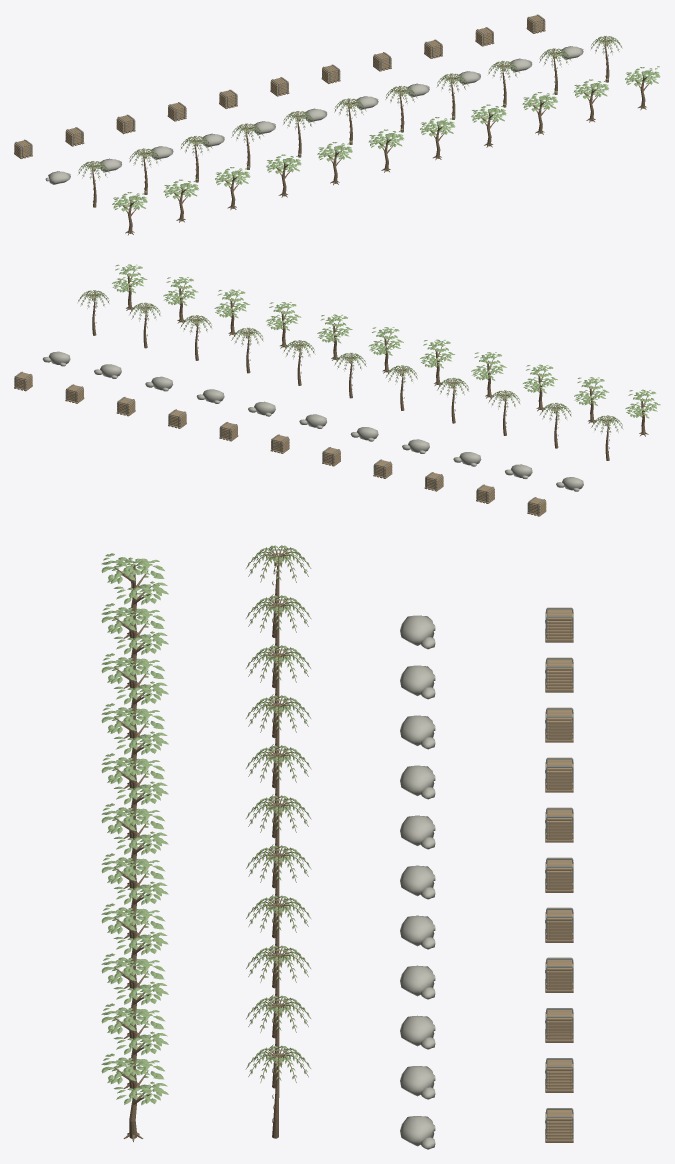
Rendered from scenery.glb.
The picture shows the model from 3 angles, top to bottom: view 1: azimuth 30°, elevation 25°; view 2: azimuth 150°, elevation 25°; view 3: azimuth 270°, elevation 25°; orthographic projection. The views are drawn at different scales.
Parts seen in each view (by area): view 1: overpass__tree, dust2__tree, train__tree, vertigo__tree, inferno__tree, ancient__tree, mirage__tree, cache__tree, ancient_night__tree, nuke__tree, anubis__tree, anubis__palm (+10 smaller); view 2: ancient__tree, mirage__tree, overpass__tree, nuke__tree, dust2__tree, vertigo__tree, anubis__tree, cache__tree, inferno__tree, train__tree, ancient_night__tree, dust2__palm (+9 smaller); view 3: cache__tree, train__tree, ancient_night__tree, vertigo__tree, ancient__tree, overpass__tree, anubis__tree, nuke__tree, inferno__tree, dust2__tree, mirage__tree, cache__palm (+32 smaller).
Boxes of the visible parts, left/top/right/bottom form: overpass__tree: left=522, top=91, right=557, bottom=135; dust2__tree: left=112, top=191, right=147, bottom=235; train__tree: left=317, top=141, right=352, bottom=185; vertigo__tree: left=573, top=78, right=608, bottom=122; inferno__tree: left=215, top=166, right=250, bottom=210; ancient__tree: left=368, top=128, right=404, bottom=172; mirage__tree: left=163, top=178, right=198, bottom=222; cache__tree: left=625, top=66, right=660, bottom=110; ancient_night__tree: left=420, top=116, right=455, bottom=160; nuke__tree: left=266, top=153, right=301, bottom=197; anubis__tree: left=471, top=103, right=506, bottom=147; anubis__palm: left=436, top=73, right=468, bottom=119; ancient__tree: left=368, top=327, right=403, bottom=373; mirage__tree: left=574, top=377, right=609, bottom=423; overpass__tree: left=214, top=289, right=249, bottom=335; nuke__tree: left=471, top=352, right=506, bottom=398; dust2__tree: left=625, top=389, right=660, bottom=436; vertigo__tree: left=163, top=277, right=198, bottom=323; anubis__tree: left=266, top=302, right=301, bottom=348; cache__tree: left=112, top=264, right=147, bottom=310; inferno__tree: left=523, top=364, right=557, bottom=411; train__tree: left=420, top=339, right=454, bottom=385; ancient_night__tree: left=317, top=314, right=352, bottom=360; dust2__palm: left=591, top=415, right=623, bottom=460; cache__tree: left=101, top=1053, right=168, bottom=1141; train__tree: left=101, top=753, right=168, bottom=838; ancient_night__tree: left=101, top=853, right=168, bottom=938; vertigo__tree: left=101, top=1003, right=168, bottom=1088; ancient__tree: left=101, top=803, right=168, bottom=888; overpass__tree: left=101, top=953, right=168, bottom=1038; anubis__tree: left=101, top=903, right=168, bottom=988; nuke__tree: left=101, top=703, right=168, bottom=788; inferno__tree: left=101, top=653, right=168, bottom=738; dust2__tree: left=101, top=553, right=168, bottom=638; mirage__tree: left=101, top=603, right=168, bottom=688; cache__palm: left=245, top=1045, right=310, bottom=1138.
Size of the model in its own units: 53.06 by 4 by 19.96.
